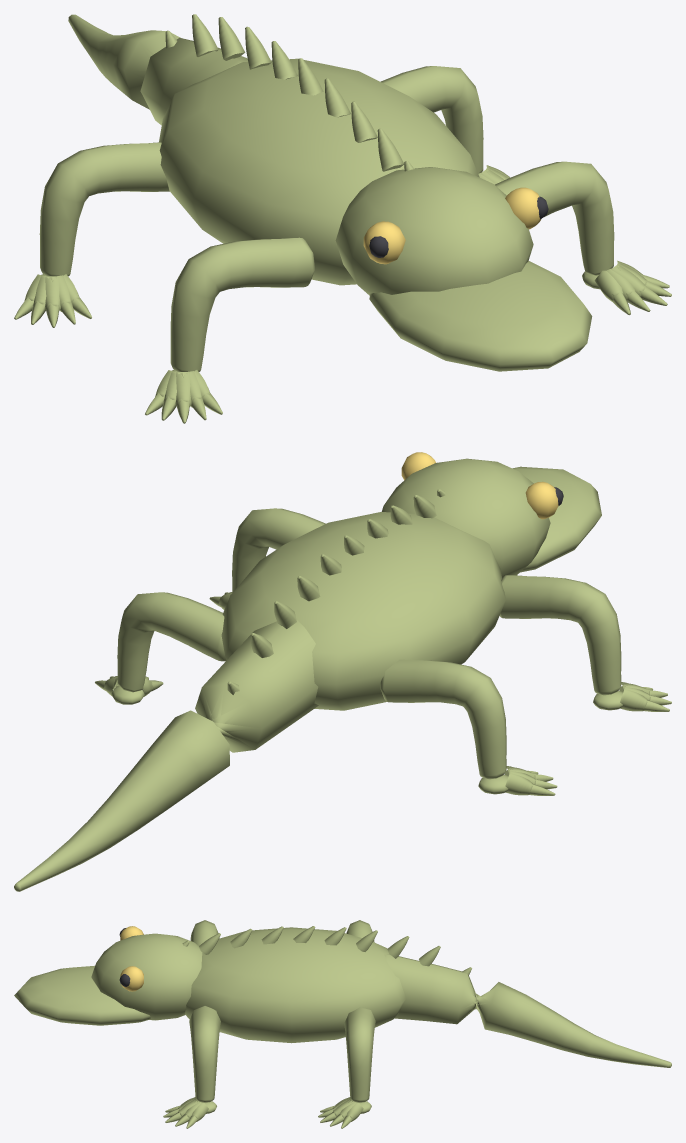
File: reptiles-amphibians-and-minibeasts-american-alligator-0d58a3e7__22433.glb
The picture shows the model from 3 angles, top to bottom: view 1: azimuth 30°, elevation 25°; view 2: azimuth 150°, elevation 25°; view 3: azimuth 270°, elevation 25°; orthographic projection. The views are drawn at different scales.
Parts seen in each view (by area): view 1: american-alligator; view 2: american-alligator; view 3: american-alligator.
Part boxes in pixels (x1,y1,x2,y2): american-alligator: [14, 14, 671, 423]; american-alligator: [14, 452, 671, 891]; american-alligator: [14, 920, 671, 1128].
Bounding box in the file's own units: 1.85 × 0.7272 × 3.4.
